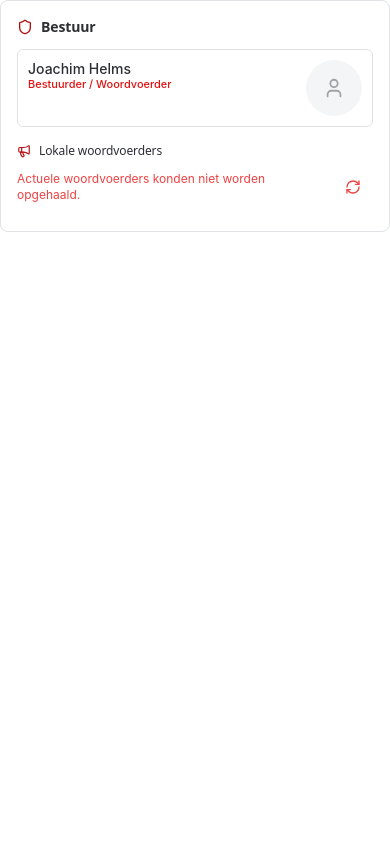
Scenario: department read integration › recovers all four departments through the existing retry control
Click the button named "Woordvoerders opnieuw laden" at (353, 187), box left=334, top=167, right=373, bottom=207
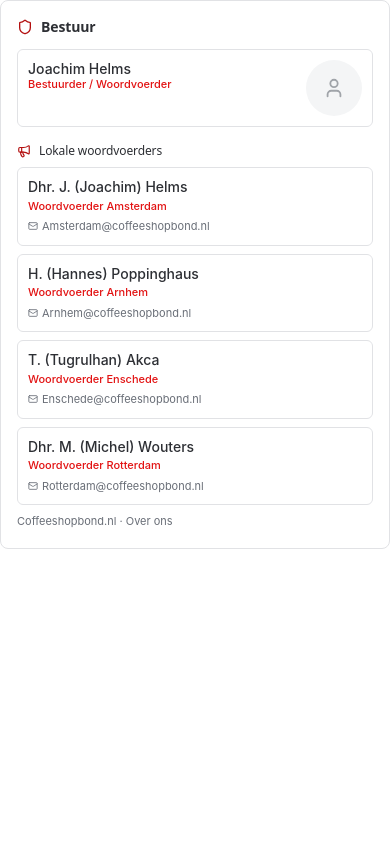
Result: the text "Dhr. J. (Joachim) Helms" is shown at left=28, top=178, right=188, bottom=195
Result: the text "H. (Hannes) Poppinghaus" is shown at left=28, top=264, right=199, bottom=282
Result: the text "T. (Tugrulhan) Akca" is shown at left=28, top=351, right=160, bottom=368
